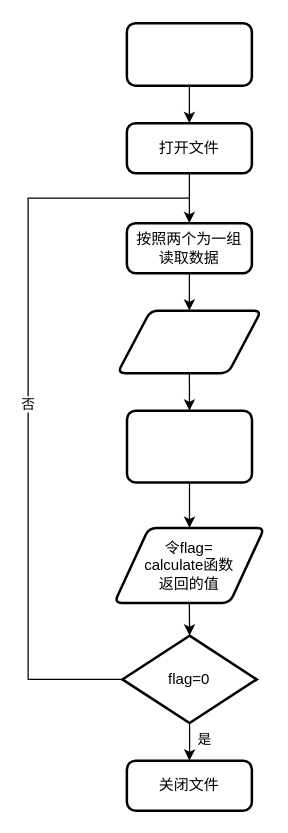
The diagram is 288 pixels wide and 833 high, and some of its shapes have lost their labels. The shapes that lost their labels are listed below. From the top down, each one's centre as x and y in pixels, then its label:
the point at 188,53: 定义标志位flag
the point at 189,341: 存放到临时变量 Q和I中
the point at 189,446: 传递给 calculate函数
